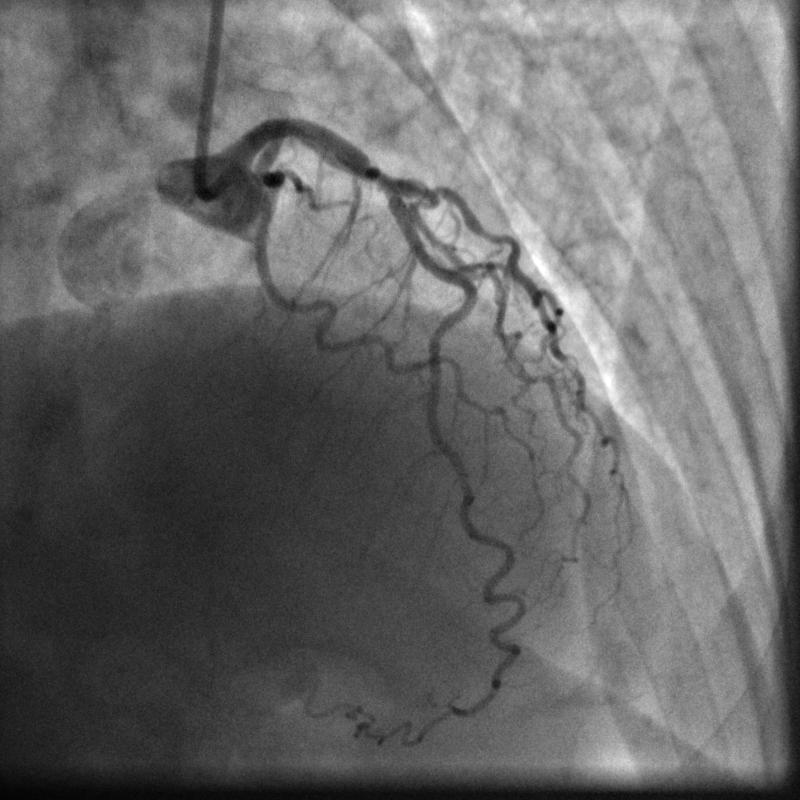Stenosis: (374, 167, 386, 192)
